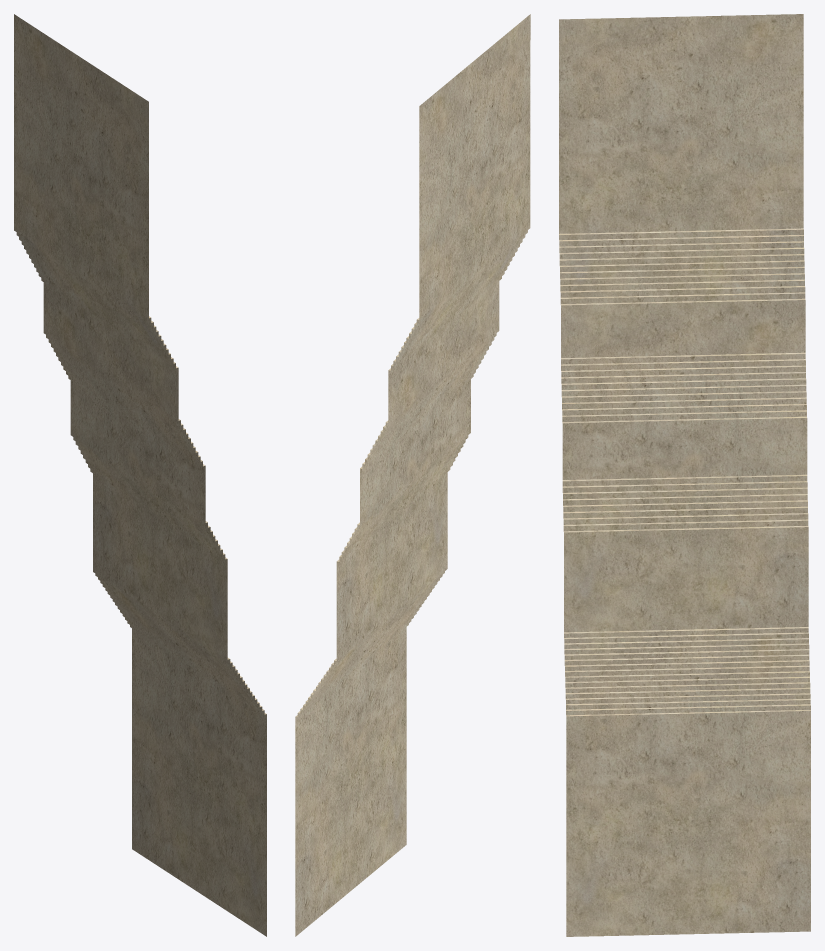
The model's file is concrete_29.fbx.
3 views of the same model, side by side, from view 1: azimuth 30°, elevation 25°; view 2: azimuth 150°, elevation 25°; view 3: azimuth 270°, elevation 25° (orthographic).
Parts seen in each view (by area): view 1: concrete_29; view 2: concrete_29; view 3: concrete_29.
Part boxes in pixels (x1,y1,x2,y2): concrete_29: (14,14,266,936); concrete_29: (295,14,530,936); concrete_29: (559,14,810,936).
Bounding box in the file's own units: 183 × 1141 × 303.
